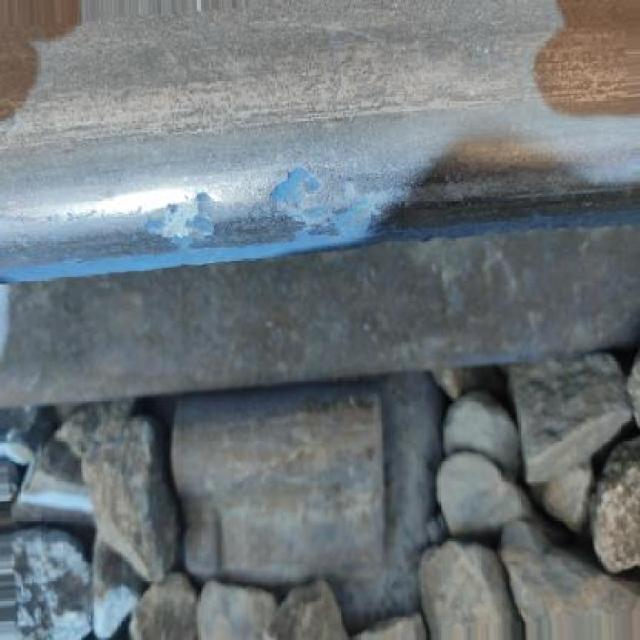defective: (4, 6, 640, 471)
